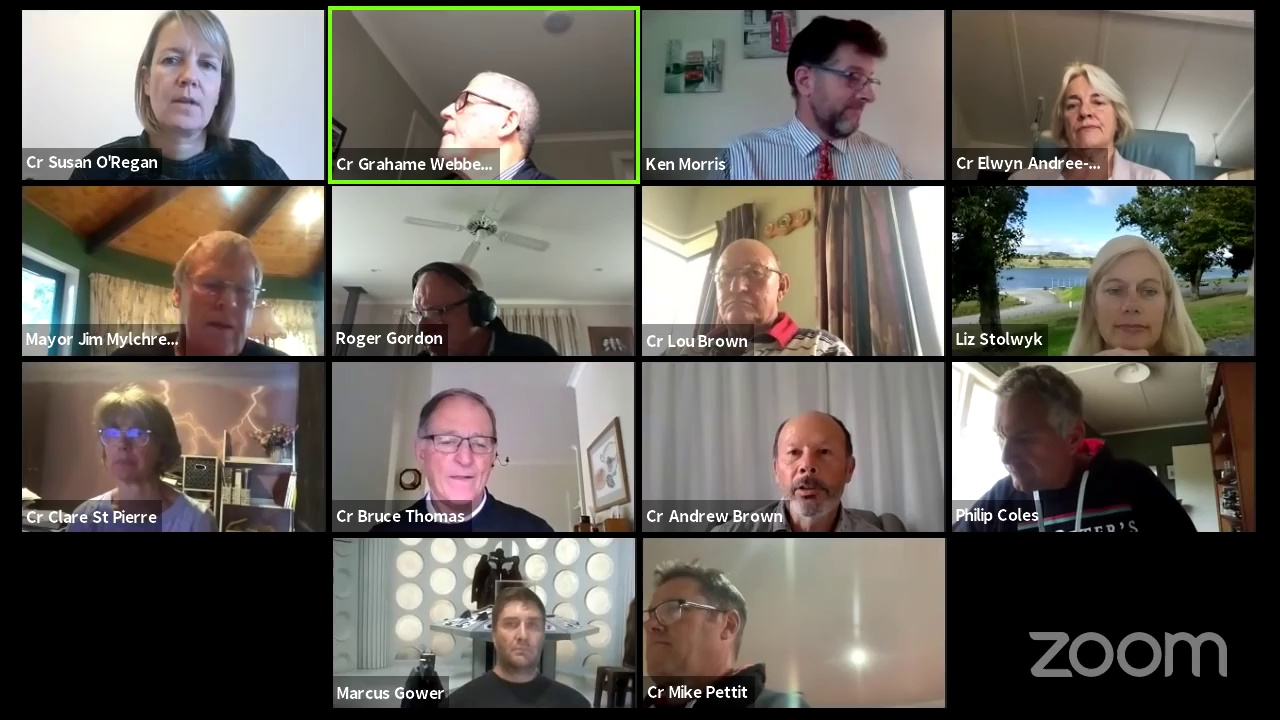Distracted: (983, 369, 1086, 497), (783, 23, 892, 135), (652, 574, 738, 678), (433, 69, 530, 157), (411, 264, 486, 348)
Not Distracted: (1080, 248, 1175, 352), (170, 242, 262, 348), (136, 19, 224, 128), (406, 396, 497, 501), (765, 416, 853, 506), (92, 400, 167, 478), (707, 244, 779, 319), (1061, 71, 1120, 144), (498, 602, 543, 666)
